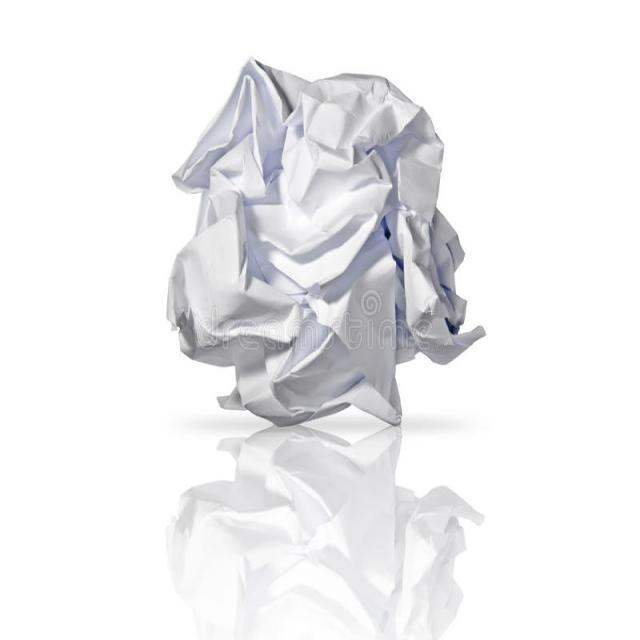Paper: (167, 59, 485, 427)
